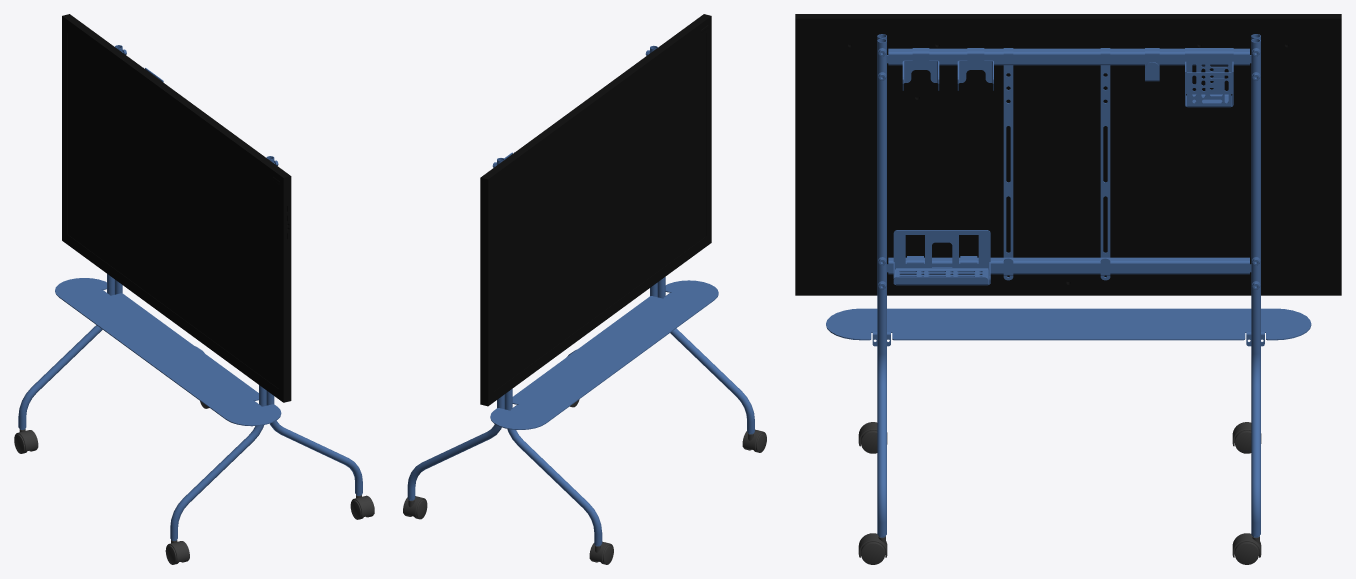
The model's file is paso-01.glb.
The picture shows the model from 3 angles, left to right: view 1: azimuth 30°, elevation 25°; view 2: azimuth 150°, elevation 25°; view 3: azimuth 270°, elevation 25°; orthographic projection. The views are drawn at different scales.
Visible parts, largest first — view 1: Cuerpo1_34, Cuerpo1_30, Cuerpo1_1, Cuerpo1_4, Cuerpo1; view 2: Cuerpo1_34, Cuerpo1_30, Cuerpo1_4, Cuerpo1_1, Cuerpo1_3; view 3: Cuerpo1_34, Cuerpo1_30, Cuerpo1_5, Cuerpo1, Cuerpo1_3, Cuerpo1_2, Cuerpo1_8, Cuerpo1_9, Cuerpo2_1, Cuerpo2, Cuerpo1_32, Cuerpo1_33.
Boxes of the visible parts, left/top/right/bottom form: Cuerpo1_34: left=62, top=14, right=291, bottom=402; Cuerpo1_30: left=55, top=278, right=281, bottom=426; Cuerpo1_1: left=170, top=385, right=266, bottom=539; Cuerpo1_4: left=18, top=274, right=114, bottom=428; Cuerpo1: left=266, top=156, right=362, bottom=494; Cuerpo1_34: left=480, top=14, right=711, bottom=406; Cuerpo1_30: left=490, top=280, right=718, bottom=429; Cuerpo1_4: left=504, top=389, right=602, bottom=544; Cuerpo1_1: left=657, top=277, right=754, bottom=432; Cuerpo1_3: left=407, top=158, right=504, bottom=499; Cuerpo1_34: left=795, top=14, right=1341, bottom=295; Cuerpo1_30: left=826, top=308, right=1311, bottom=346; Cuerpo1_5: left=887, top=257, right=1251, bottom=274; Cuerpo1: left=877, top=38, right=886, bottom=535; Cuerpo1_3: left=1251, top=38, right=1260, bottom=535; Cuerpo1_2: left=887, top=48, right=1251, bottom=65; Cuerpo1_8: left=893, top=230, right=990, bottom=285; Cuerpo1_9: left=1185, top=48, right=1233, bottom=107; Cuerpo2_1: left=1100, top=48, right=1110, bottom=277; Cuerpo2: left=1003, top=48, right=1013, bottom=277; Cuerpo1_32: left=902, top=48, right=939, bottom=90; Cuerpo1_33: left=957, top=48, right=993, bottom=90.
Bounding box in the file's own units: 0.5894 × 1.09 × 1.13.
